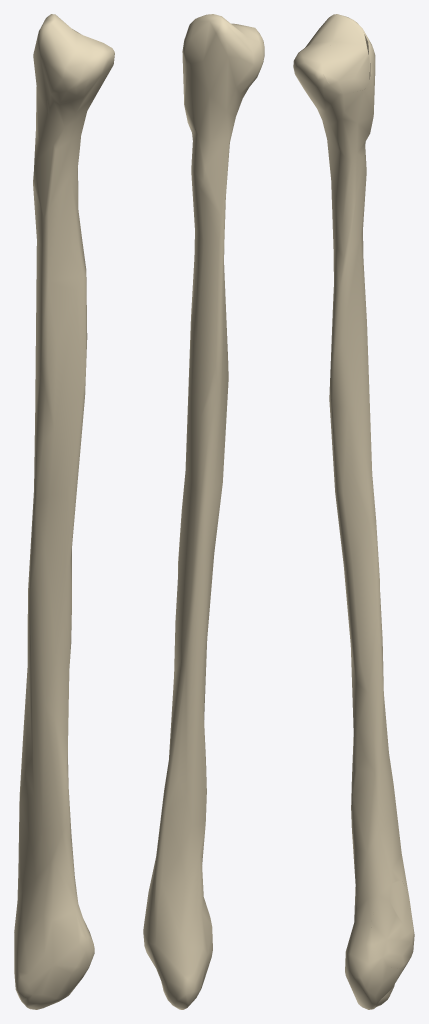
File: esqueleto-fibula-r.glb
3 renders of one model, left to right at view 1: azimuth 90°, elevation 25°; view 2: azimuth 150°, elevation 25°; view 3: azimuth 330°, elevation 25°, orthographic.
Visible parts, largest first — view 1: Fibula.r; view 2: Fibula.r; view 3: Fibula.r.
Part boxes in pixels (x1,y1,x2,y2): Fibula.r: [14, 14, 114, 1009]; Fibula.r: [143, 14, 264, 1009]; Fibula.r: [293, 14, 414, 1009].
Size of the model in its own units: 0.0361 by 0.3625 by 0.0329.
